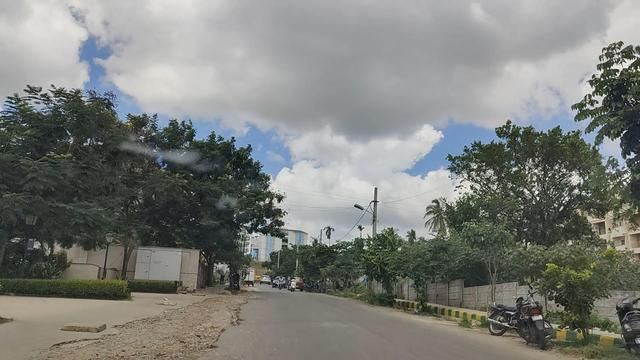RoadDamages: (45, 306, 264, 360)
